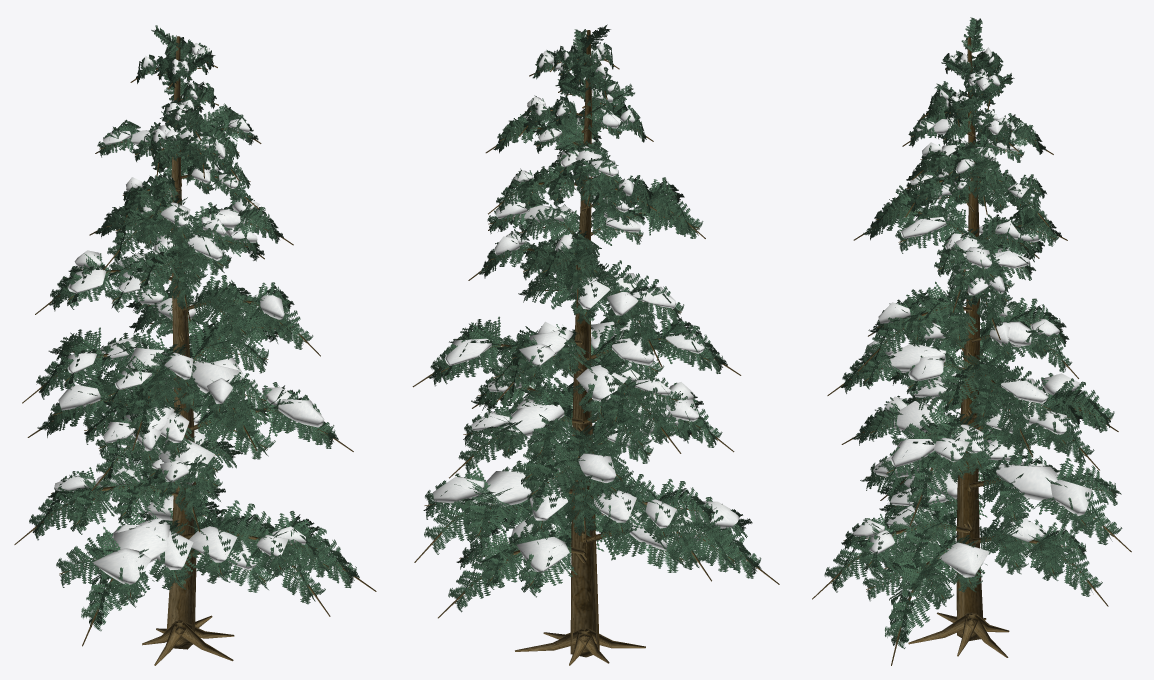
3 views of the same model, side by side, from view 1: azimuth 30°, elevation 25°; view 2: azimuth 150°, elevation 25°; view 3: azimuth 270°, elevation 25° (orthographic). The views are drawn at different scales.
Parts seen in each view (by area): view 1: Mesh_NeedleSprays, Mesh_SupportedSnowLoads, Mesh_BarkStructure; view 2: Mesh_NeedleSprays, Mesh_SupportedSnowLoads, Mesh_BarkStructure; view 3: Mesh_NeedleSprays, Mesh_SupportedSnowLoads, Mesh_BarkStructure.
Boxes of the visible parts, x1,y1,x2,y2 form: Mesh_NeedleSprays: (29,25,359,631); Mesh_SupportedSnowLoads: (54,43,324,584); Mesh_BarkStructure: (14,36,376,665); Mesh_NeedleSprays: (423,24,761,612); Mesh_SupportedSnowLoads: (433,44,739,573); Mesh_BarkStructure: (412,30,779,665); Mesh_NeedleSprays: (824,17,1122,648); Mesh_SupportedSnowLoads: (853,47,1092,577); Mesh_BarkStructure: (812,37,1131,665).
Size of the model in its own units: 1.66 by 3.19 by 1.56.
Materials: 3 (3 with a texture image).
